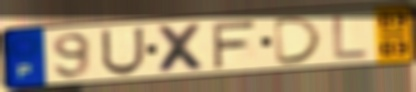9: (50, 32, 94, 79)
D: (272, 14, 327, 67)
F: (209, 19, 258, 71)
L: (331, 12, 371, 61)
U: (99, 26, 147, 77)
X: (153, 21, 211, 75)
